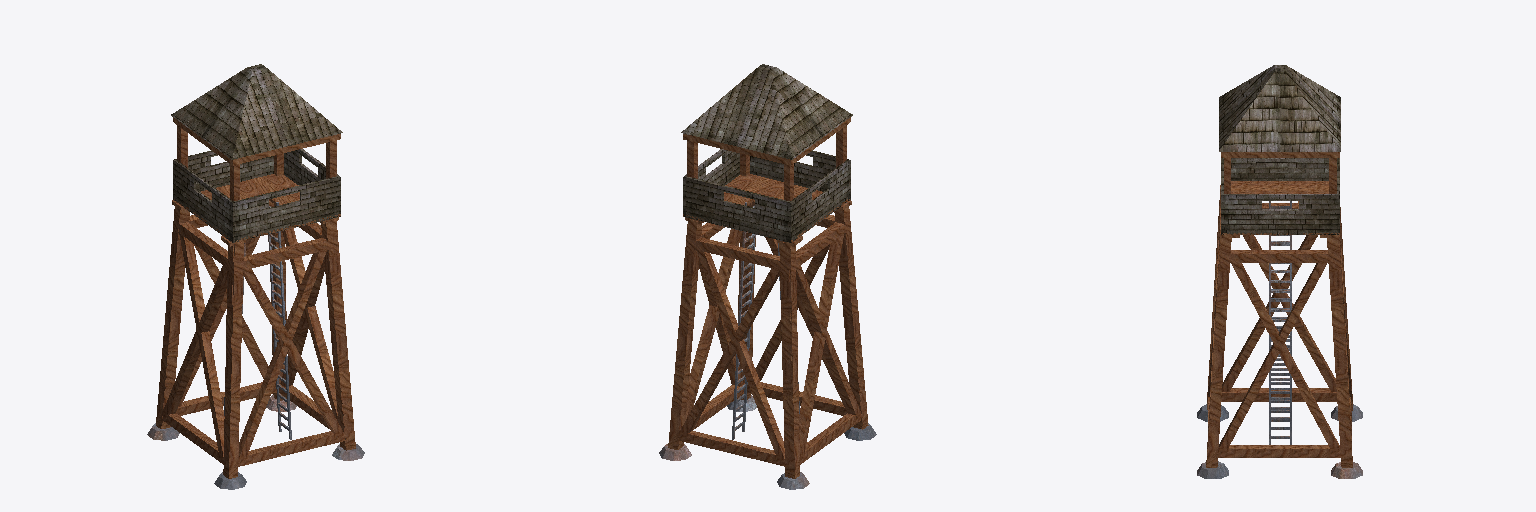
The picture shows the model from 3 angles: view 1: azimuth 30°, elevation 25°; view 2: azimuth 150°, elevation 25°; view 3: azimuth 270°, elevation 25°; orthographic projection.
Visible parts, largest first — view 1: Object_ASHSEN_2.jpg, Object_SHING1.jpg, Object_PLATEOX2.jpg; view 2: Object_ASHSEN_2.jpg, Object_SHING1.jpg, Object_PLATEOX2.jpg; view 3: Object_ASHSEN_2.jpg, Object_SHING1.jpg, Object_PLATEOX2.jpg.
Part boxes in pixels (bbox=[...]): Object_ASHSEN_2.jpg: bbox=[156, 117, 355, 478]; Object_SHING1.jpg: bbox=[171, 64, 342, 242]; Object_PLATEOX2.jpg: bbox=[147, 202, 364, 489]; Object_ASHSEN_2.jpg: bbox=[668, 117, 868, 478]; Object_SHING1.jpg: bbox=[681, 64, 852, 242]; Object_PLATEOX2.jpg: bbox=[659, 202, 876, 489]; Object_ASHSEN_2.jpg: bbox=[1206, 152, 1352, 467]; Object_SHING1.jpg: bbox=[1219, 65, 1340, 234]; Object_PLATEOX2.jpg: bbox=[1197, 201, 1362, 478].
Size of the model in its own units: 1.01 by 2.5 by 0.9949.
4 materials, 3 textured.